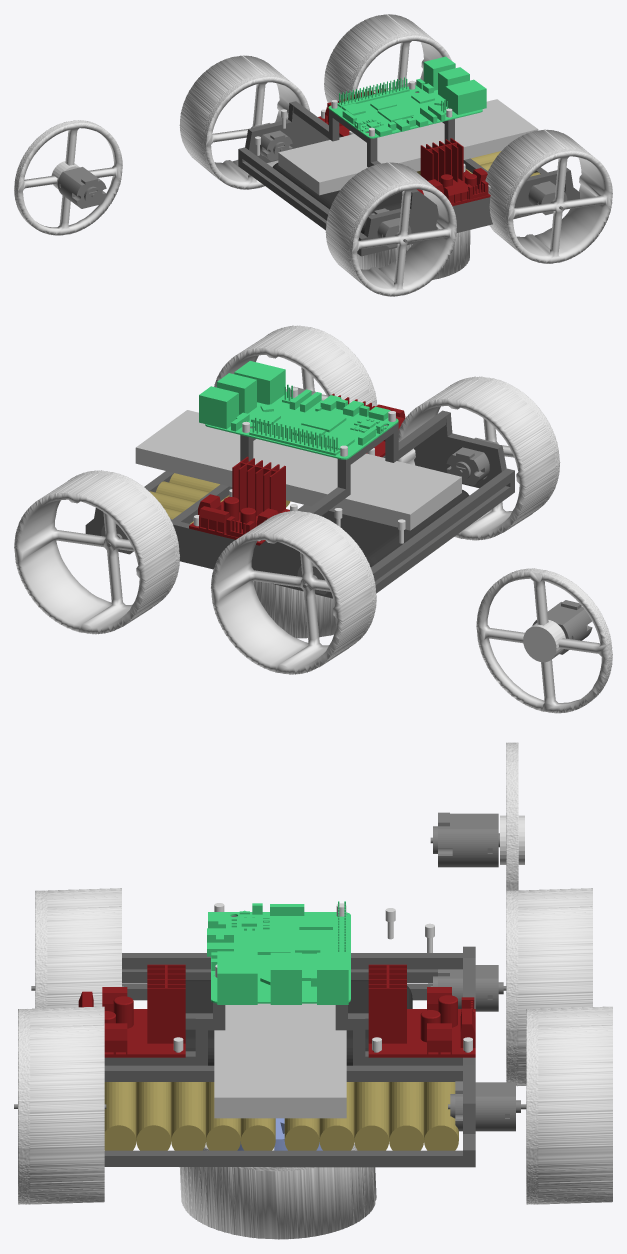
3 renders of one model, top to bottom at view 1: azimuth 30°, elevation 25°; view 2: azimuth 150°, elevation 25°; view 3: azimuth 270°, elevation 25°, orthographic. The views are drawn at different scales.
Visible parts, largest first — view 1: Circle.002, Circle.003, Breadboard, Style1, Circle, Raspberry Pi, Circle.001, Circle.005, H-bridge.0, bool Motor, Wheel2 modifier applied, Battery Pack (+8 smaller); view 2: Circle.001, Circle, Breadboard, Style1, Raspberry Pi, Circle.003, Circle.005, Circle.002, H-bridge.1, Wheel2 modifier applied, Battery Pack, X bar.001 (+4 smaller); view 3: Circle.002, Circle.001, Style1, Breadboard, Raspberry Pi, Wheel2 modifier applied, Circle, Circle.003, Battery.0, Battery.1, H-bridge.1, H-bridge.0 (+8 smaller).
Part boxes in pixels (x1,y1,x2,y2): Circle.002: (485, 129, 612, 263); Circle.003: (325, 162, 456, 296); Breadboard: (278, 99, 538, 195); Style1: (238, 92, 579, 256); Circle: (179, 55, 309, 189); Raspberry Pi: (328, 56, 486, 138); Circle.001: (324, 14, 451, 102); Circle.005: (14, 120, 122, 235); H-bridge.0: (417, 138, 490, 206); bool Motor: (57, 167, 106, 208); Wheel2 modifier applied: (357, 230, 470, 279); Battery Pack: (272, 163, 402, 233); Circle.001: (14, 470, 179, 634); Circle: (211, 511, 376, 674); Breadboard: (135, 410, 461, 530); Style1: (85, 410, 514, 598); Raspberry Pi: (199, 361, 398, 459); Circle.003: (397, 376, 560, 540); Circle.005: (476, 568, 612, 713); Circle.002: (214, 325, 377, 406); H-bridge.1: (189, 456, 289, 545); Wheel2 modifier applied: (253, 581, 336, 638); Battery Pack: (321, 489, 469, 567); X bar.001: (371, 468, 514, 580); Circle.002: (18, 1006, 104, 1204); Circle.001: (526, 1006, 612, 1204); Style1: (104, 915, 475, 1167); Breadboard: (214, 1003, 346, 1118); Raspberry Pi: (207, 901, 350, 1004); Wheel2 modifier applied: (179, 1142, 376, 1239); Circle: (506, 888, 592, 1086); Circle.003: (35, 888, 121, 1008); Battery.0: (104, 1082, 275, 1150); Battery.1: (284, 1082, 458, 1150); H-bridge.1: (368, 964, 475, 1057); H-bridge.0: (78, 964, 185, 1057).
Size of the model in its own units: 0.334 by 0.1221 by 0.2419.
